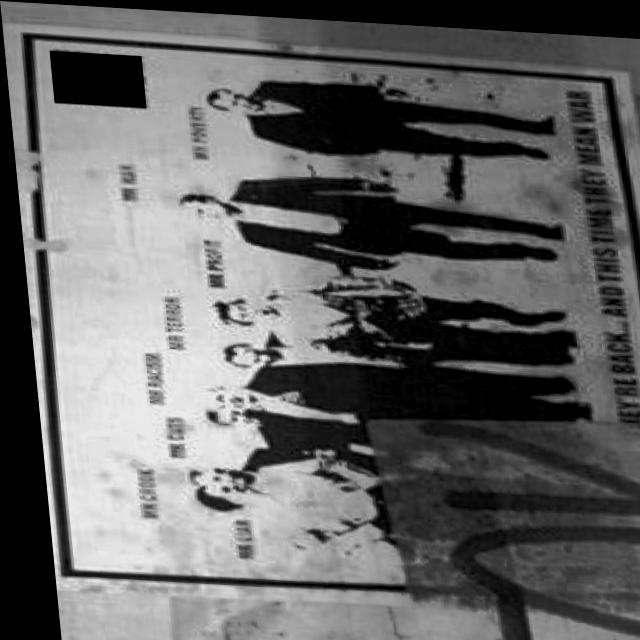qr_code: (49, 49, 145, 105)
